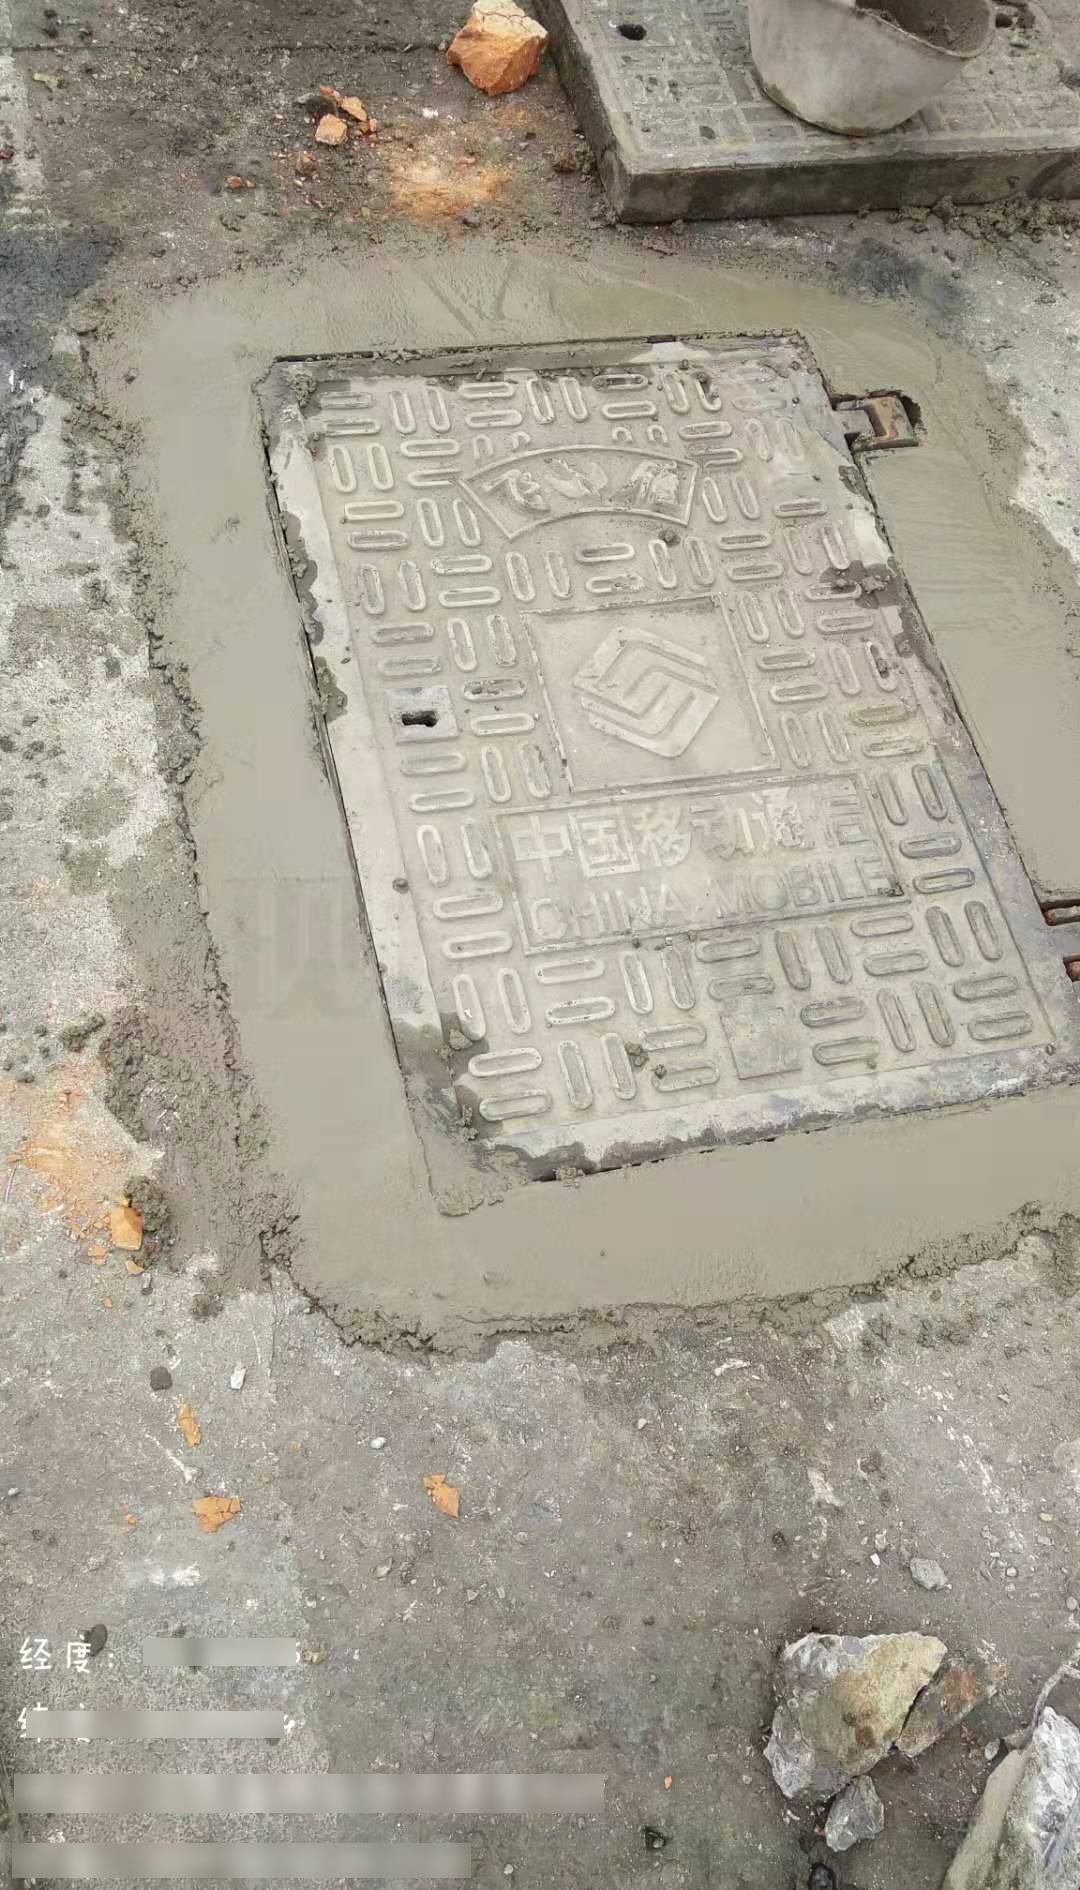good: (248, 332, 1080, 1212)
